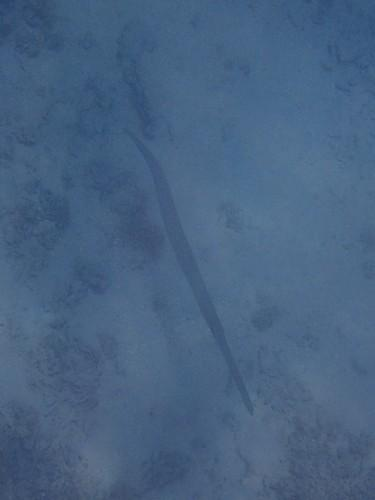Fistularia commersonii: (67, 111, 297, 475)
